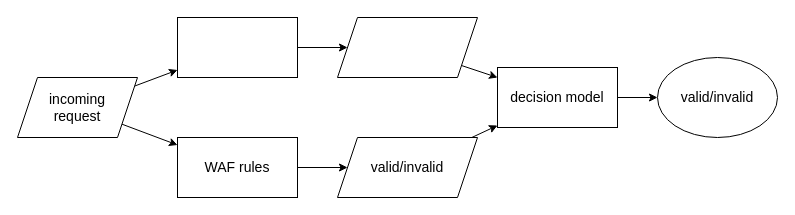
The diagram is 795 pixels wide and 215 high, and some of its shapes have lost their labels. The box of each missing label's shape, as (x1, y1, x2, y2) in pixels:
normal/abnormal: (336, 16, 478, 78)
request validator: (176, 16, 298, 78)
